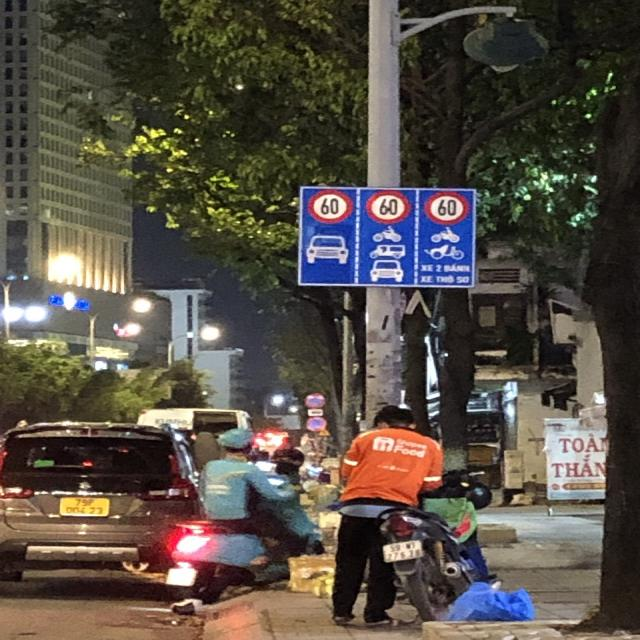Bien bao toc do toi da cho phep: (302, 184, 356, 226), (361, 186, 417, 226), (422, 186, 472, 227)
